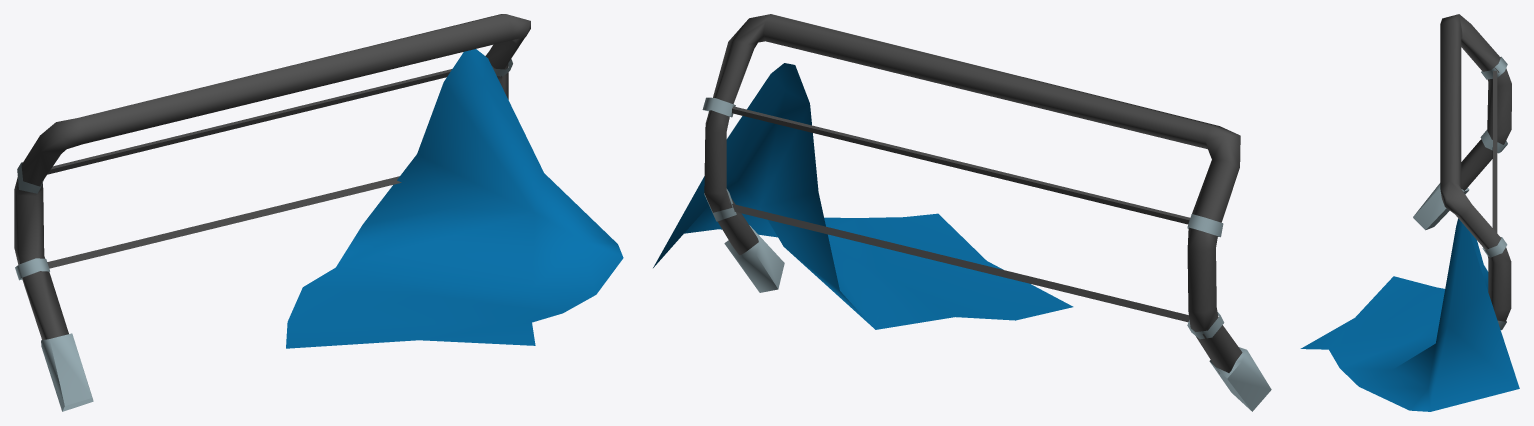
Rendered from env_building_warehouse01fence01A_lod2.fbx.
The picture shows the model from 3 angles, left to right: view 1: azimuth 30°, elevation 25°; view 2: azimuth 150°, elevation 25°; view 3: azimuth 270°, elevation 25°; orthographic projection. The views are drawn at different scales.
Parts seen in each view (by area): view 1: env_building_warehouse01fence01A_lod3; view 2: env_building_warehouse01fence01A_lod3; view 3: env_building_warehouse01fence01A_lod3.
Part boxes in pixels (x1=…): env_building_warehouse01fence01A_lod3: x1=14, y1=14, x2=623, y2=411; env_building_warehouse01fence01A_lod3: x1=653, y1=14, x2=1271, y2=411; env_building_warehouse01fence01A_lod3: x1=1300, y1=14, x2=1519, y2=411.
Size of the model in its own units: 69.58 by 33.24 by 30.02.
